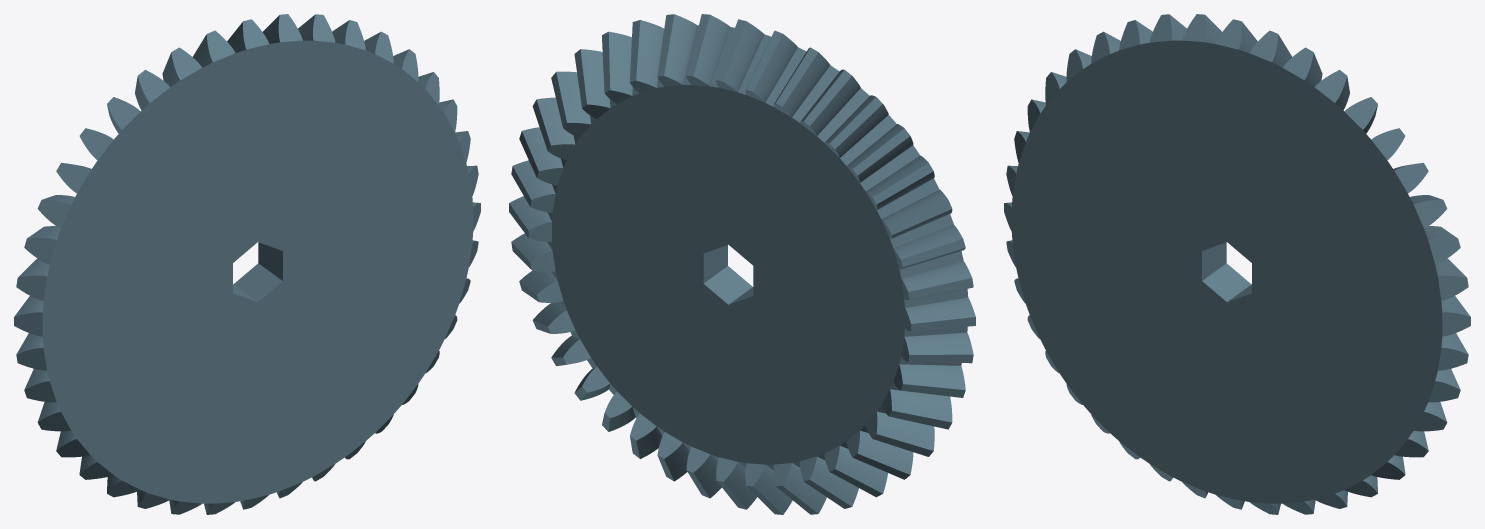
3 views of the same model, side by side, from view 1: azimuth 30°, elevation 25°; view 2: azimuth 150°, elevation 25°; view 3: azimuth 330°, elevation 25° (orthographic).
Parts seen in each view (by area): view 1: Bevel Gear; view 2: Bevel Gear; view 3: Bevel Gear.
Part boxes in pixels (bbox=[...]): Bevel Gear: bbox=[14, 14, 480, 514]; Bevel Gear: bbox=[509, 14, 975, 514]; Bevel Gear: bbox=[1004, 14, 1470, 514].
Bounding box in the file's own units: 122 × 122 × 14.95.
